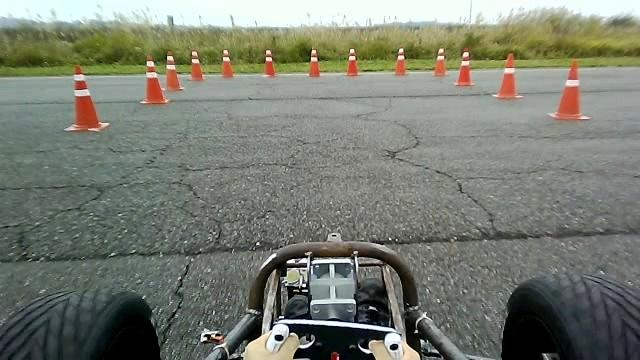red cone: (63, 64, 109, 132), (547, 58, 591, 120), (492, 53, 524, 100), (138, 54, 168, 104), (162, 51, 184, 92), (453, 47, 475, 86), (187, 50, 206, 81), (394, 47, 409, 76), (345, 48, 360, 76), (262, 48, 276, 77), (433, 48, 447, 76), (221, 49, 234, 77), (308, 48, 320, 77)
